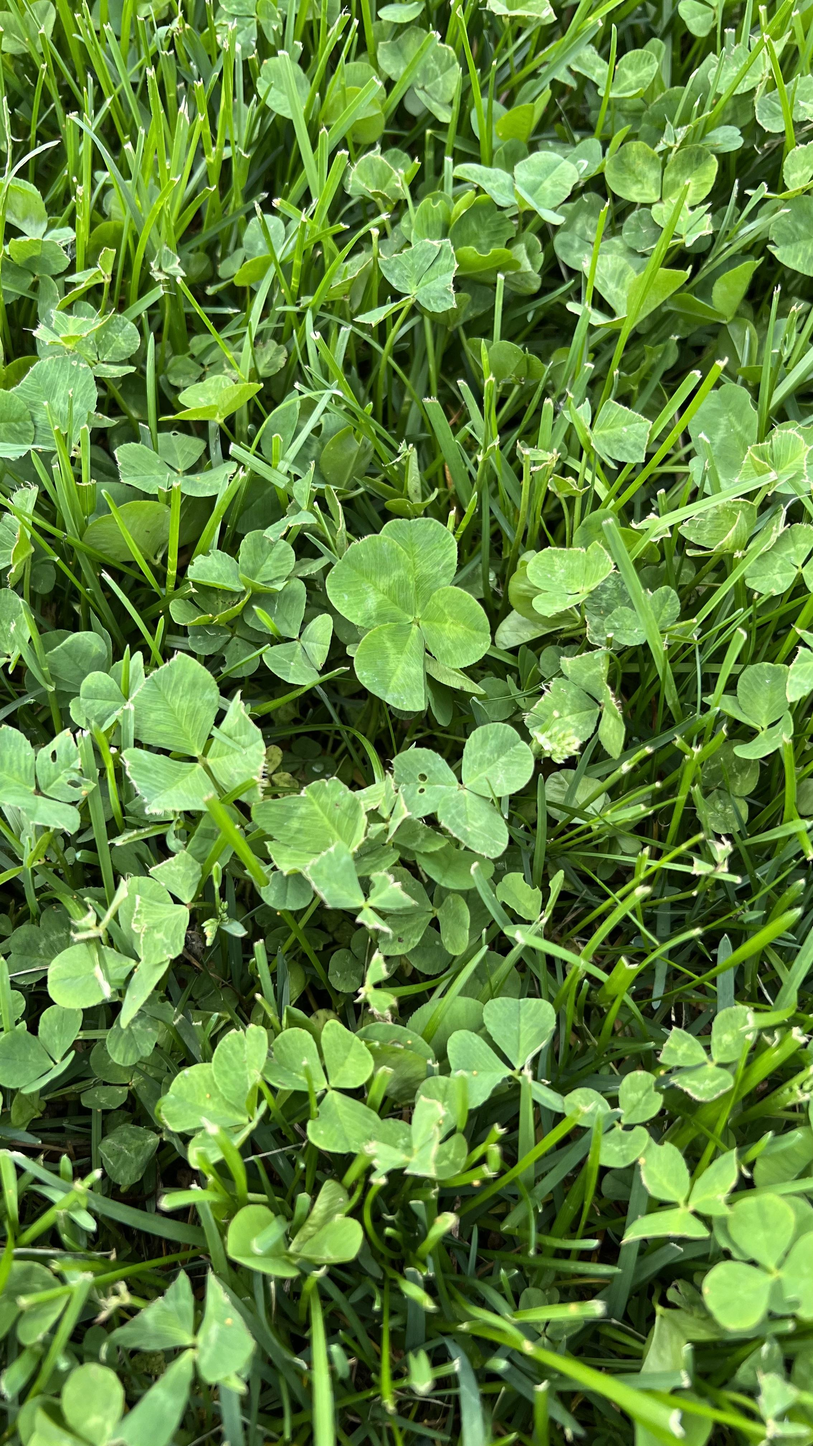4-Leaf-Clovers: (291, 578, 400, 842)
